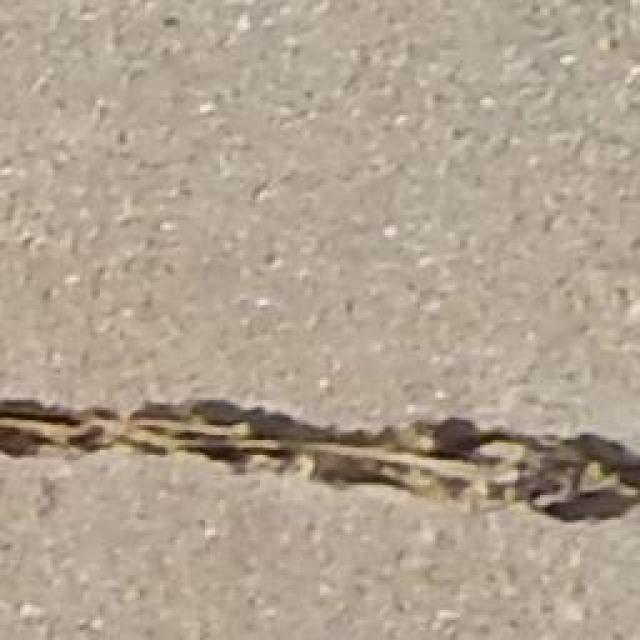concrete-crack: (0, 395, 640, 527)
